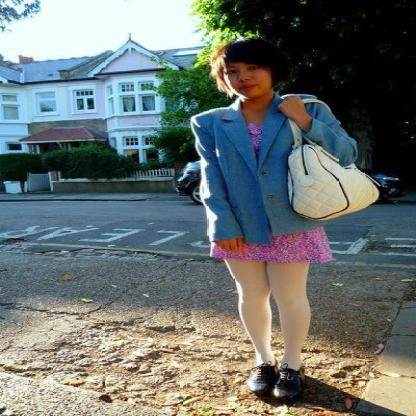bag: (283, 142, 378, 218)
dress: (212, 121, 340, 266)
jacket: (187, 88, 357, 245)
shoe: (252, 363, 322, 406)
